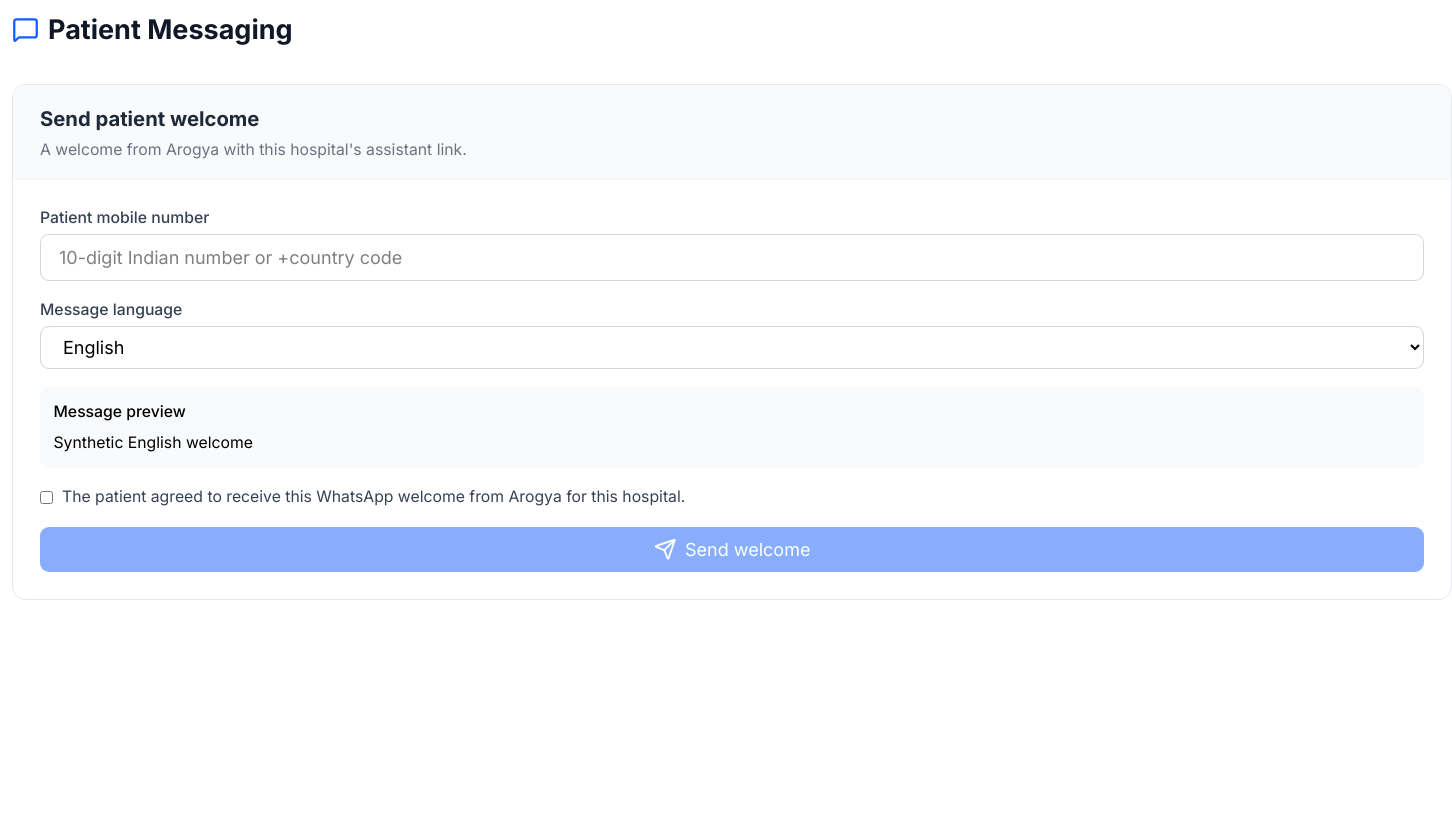
it: Meta patient welcomes › preserves Malayalam and request key for an unchanged uncertain retry
Expected: the text "Synthetic English welcome" is shown, [54, 434, 253, 452]
Select "Malayalam / മലയാളം" in the dropdown labelled "Message language" at (732, 348), box [40, 326, 1424, 370]
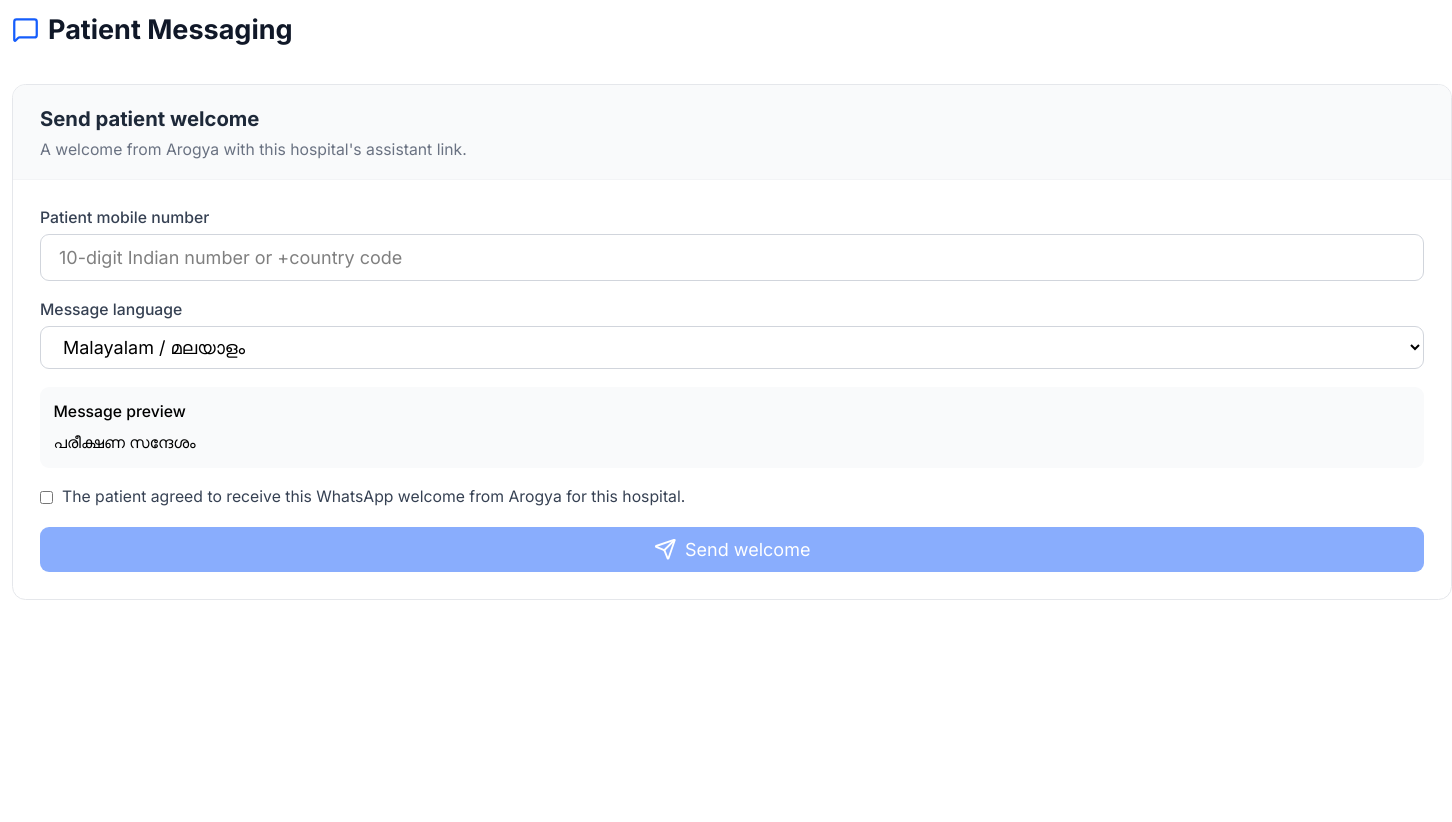
Type "9876543210" into the field labelled "Patient mobile number".
click(732, 258); type("9876543210")  # box [40, 234, 1424, 282]
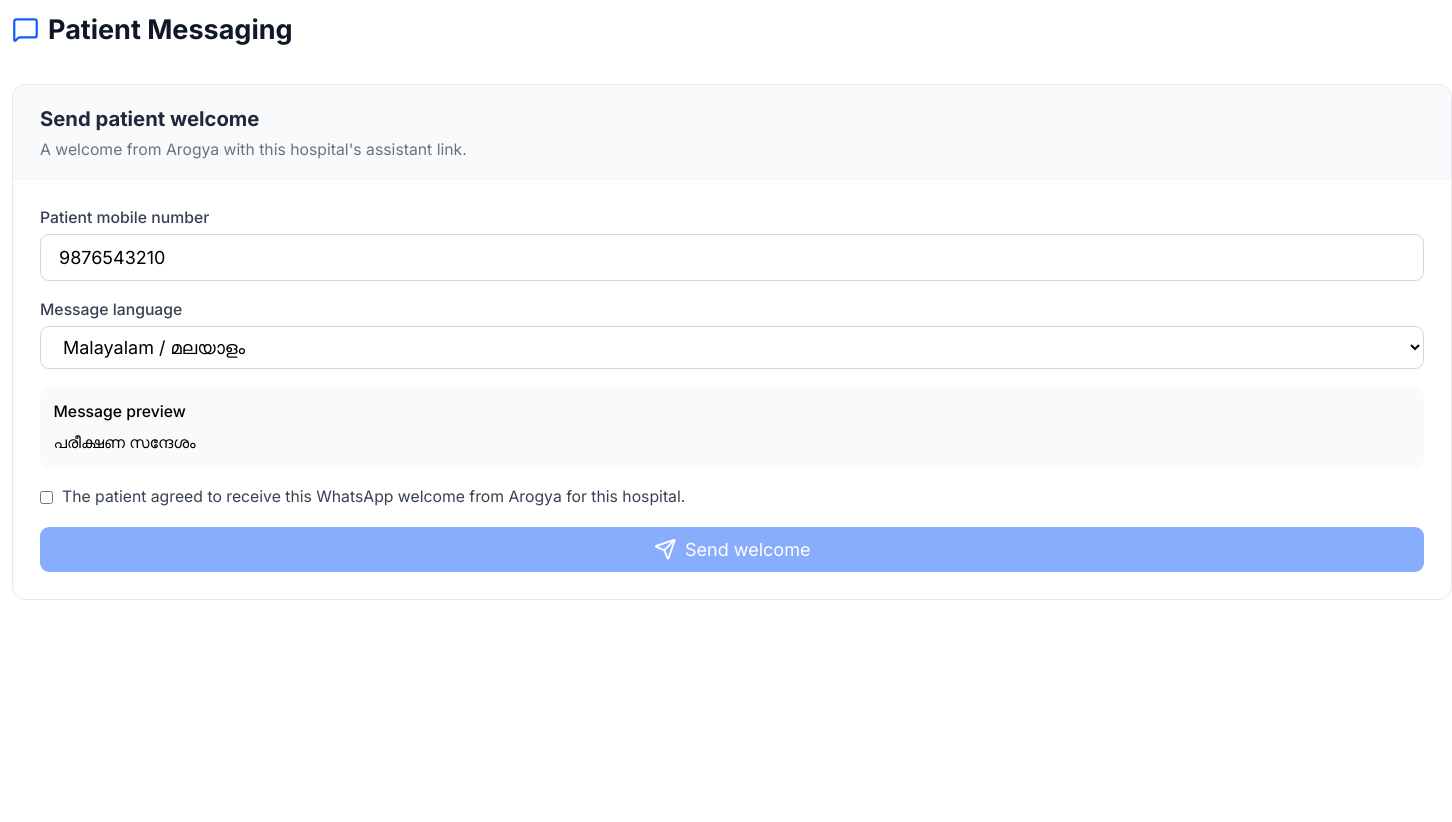
Click the checkbox.
click(46, 498)  # box [40, 491, 53, 504]
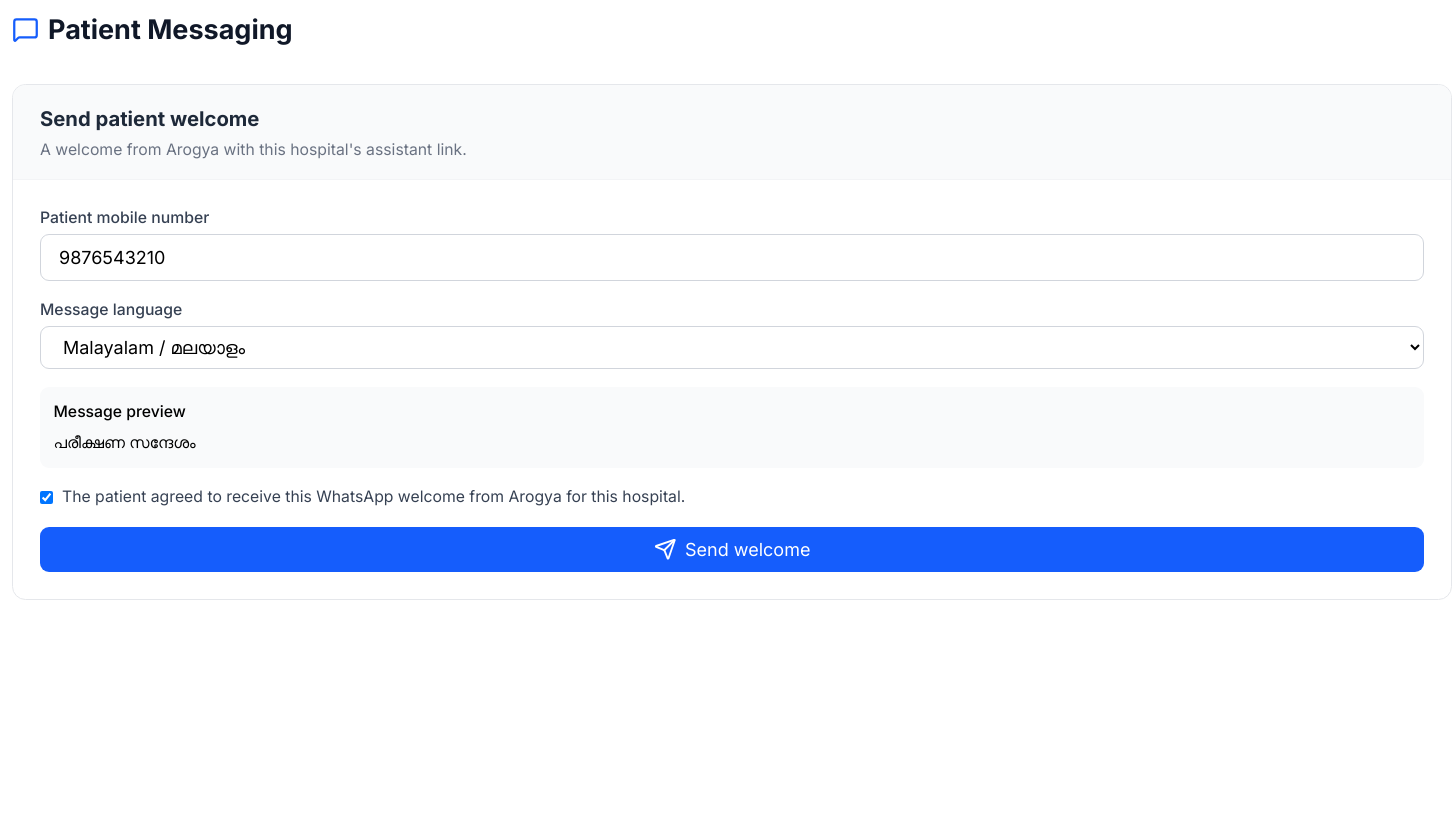
Submit the form labelled "Patient mobile number", box [40, 208, 1424, 572]
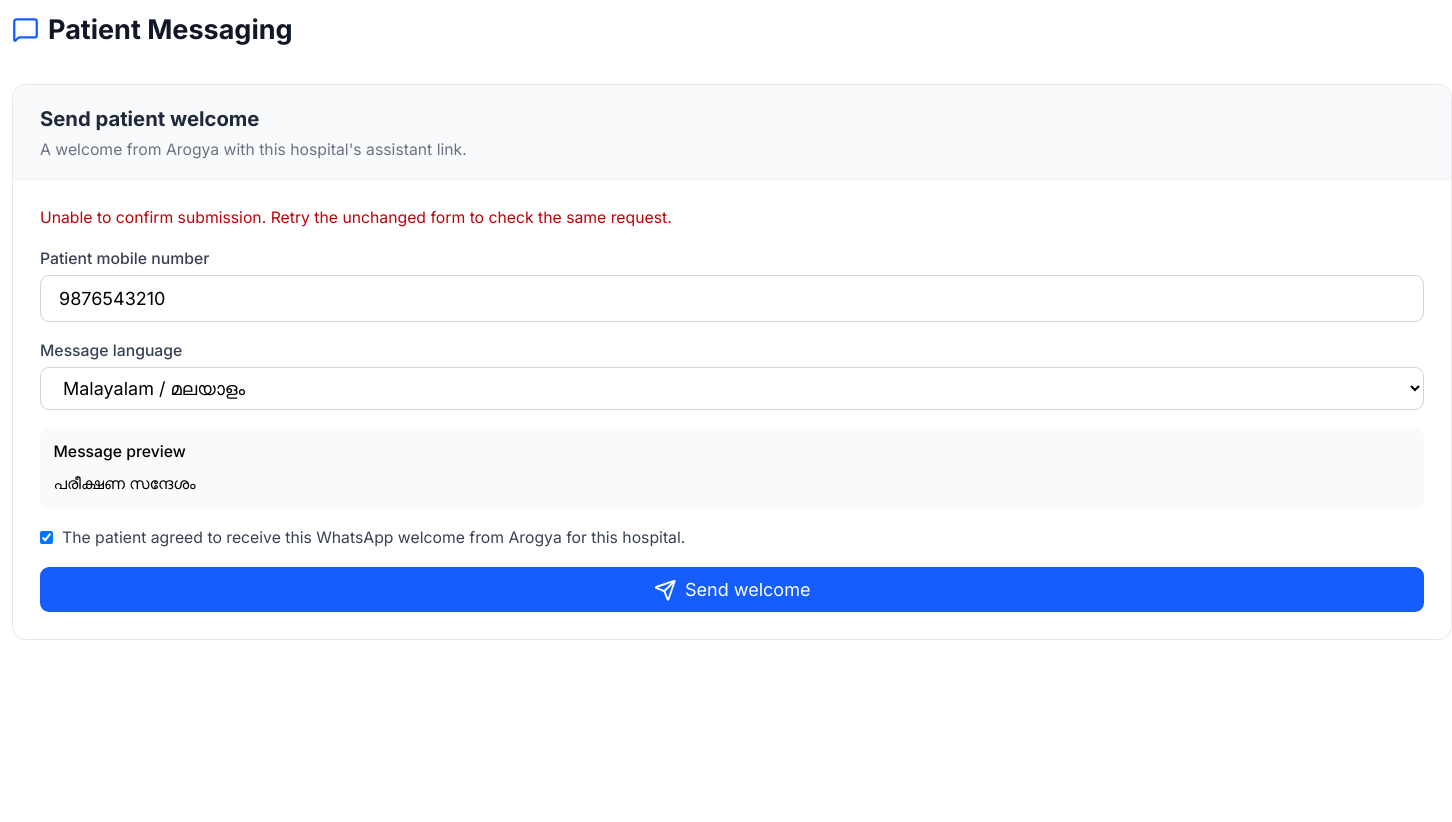
Result: the message is shown at [40, 208, 672, 228]
Submit the form named "Patient mobile number", box [40, 208, 1424, 612]
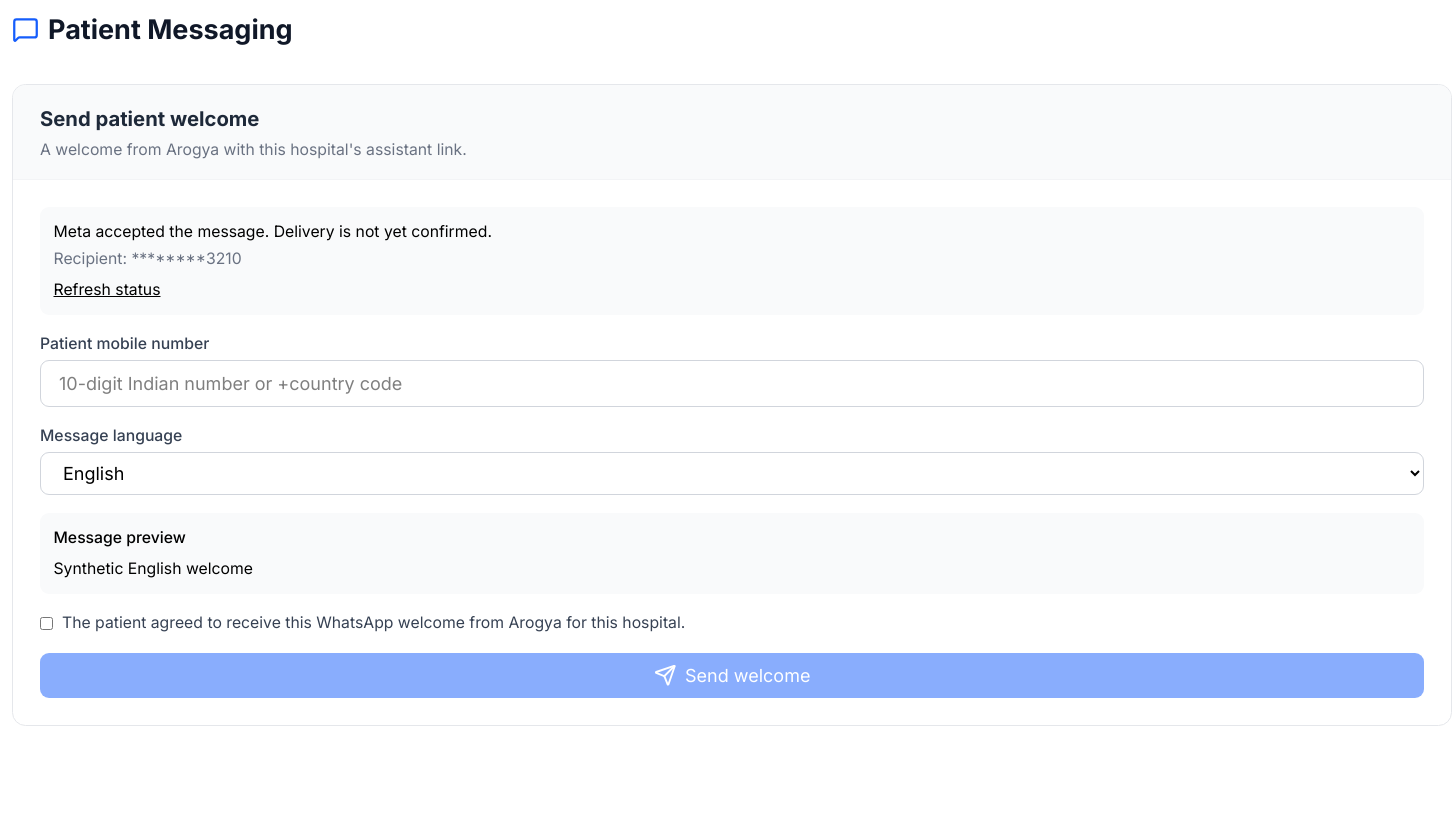
Result: the text "Meta accepted the message. Delivery is not yet confirmed." is shown at [54, 222, 492, 241]
